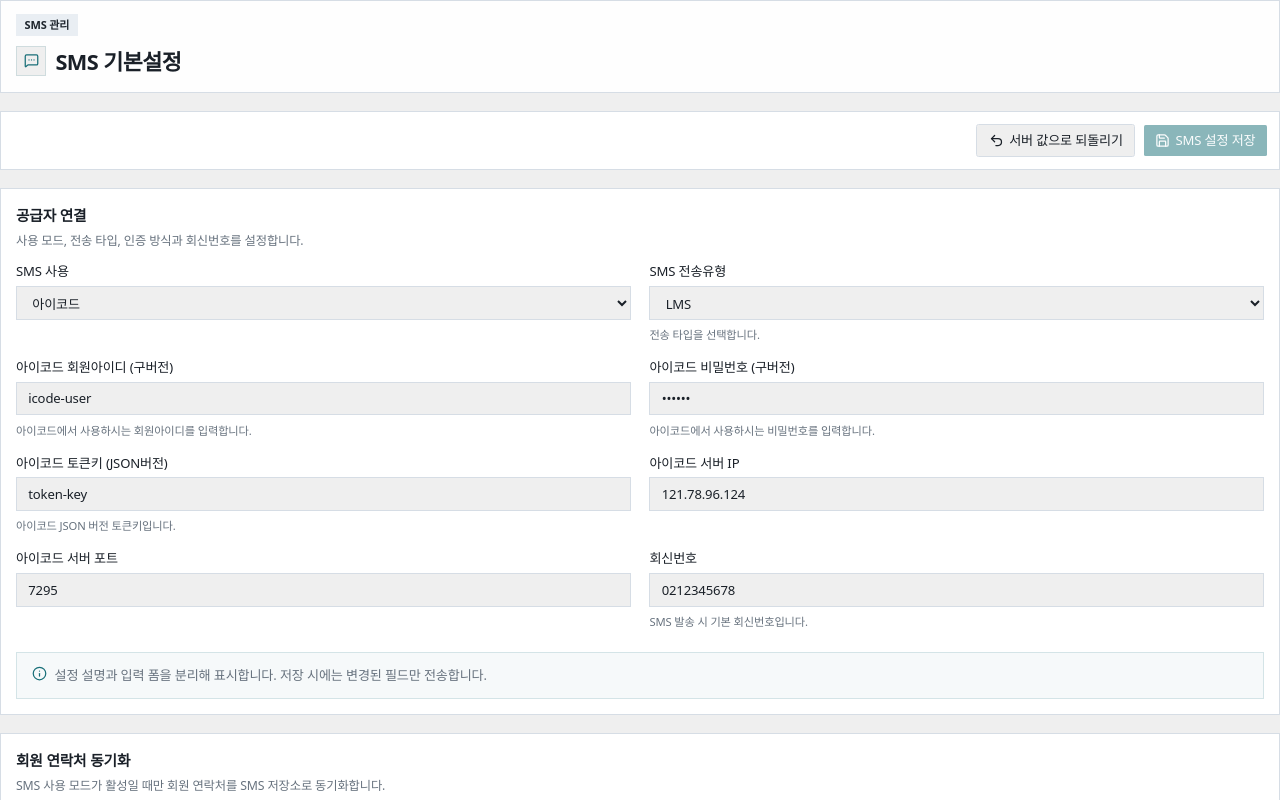
Test case: AdminSmsConfigPage › shows inline validation below the invalid field before save
This screenshot has width=1280, height=800.
In the field showing "7295": [323, 590] box x1=16 y1=573 x2=631 y2=607, type "not-a-port"
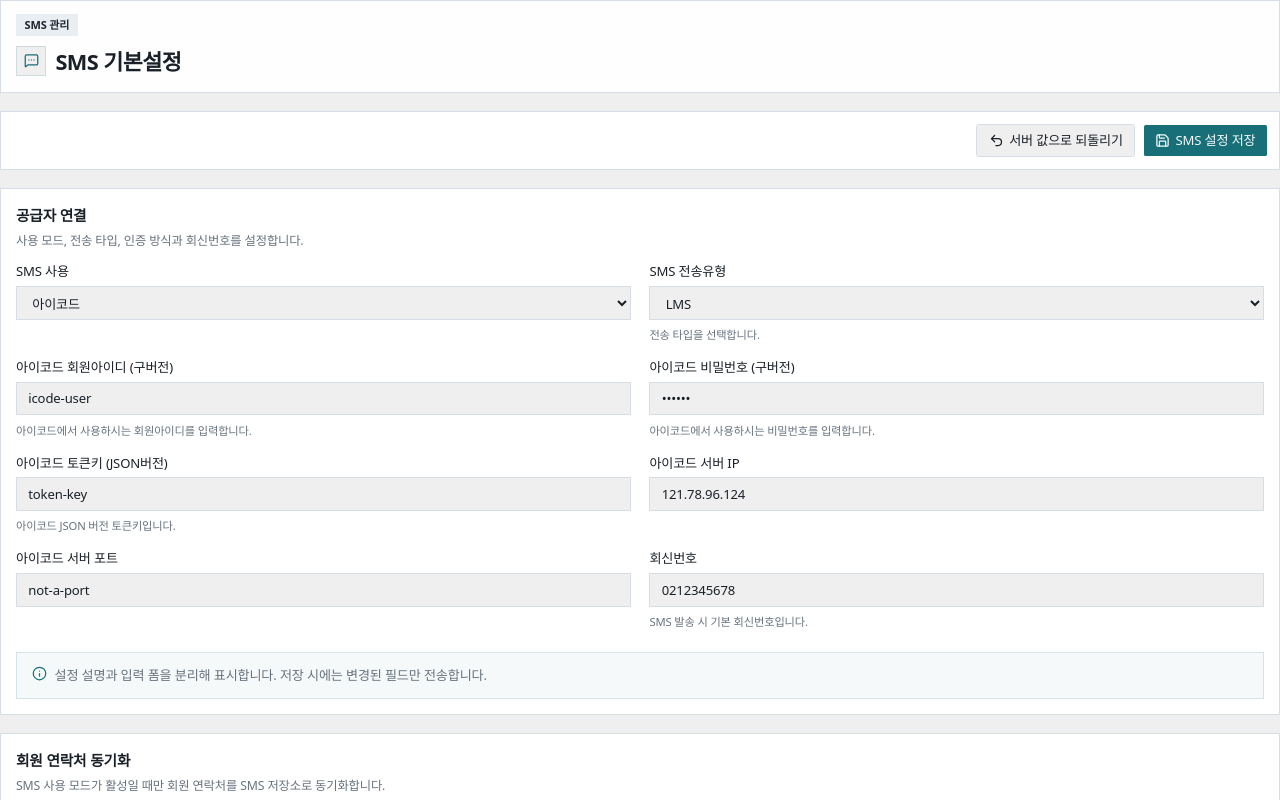
Click the button "SMS 설정 저장": [1205, 140] box x1=1143 y1=124 x2=1268 y2=157
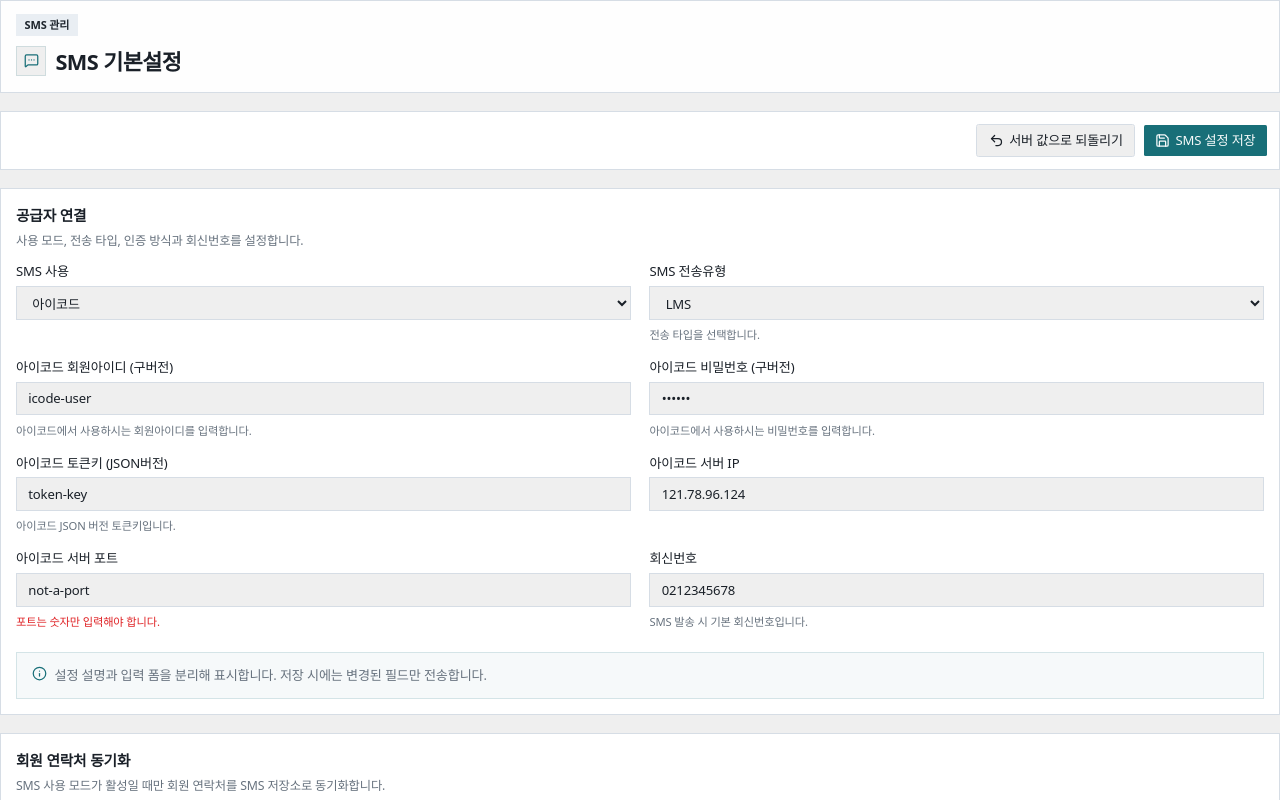
Check: the text "포트는 숫자만 입력해야 합니다." is shown, box x1=16 y1=614 x2=160 y2=629
